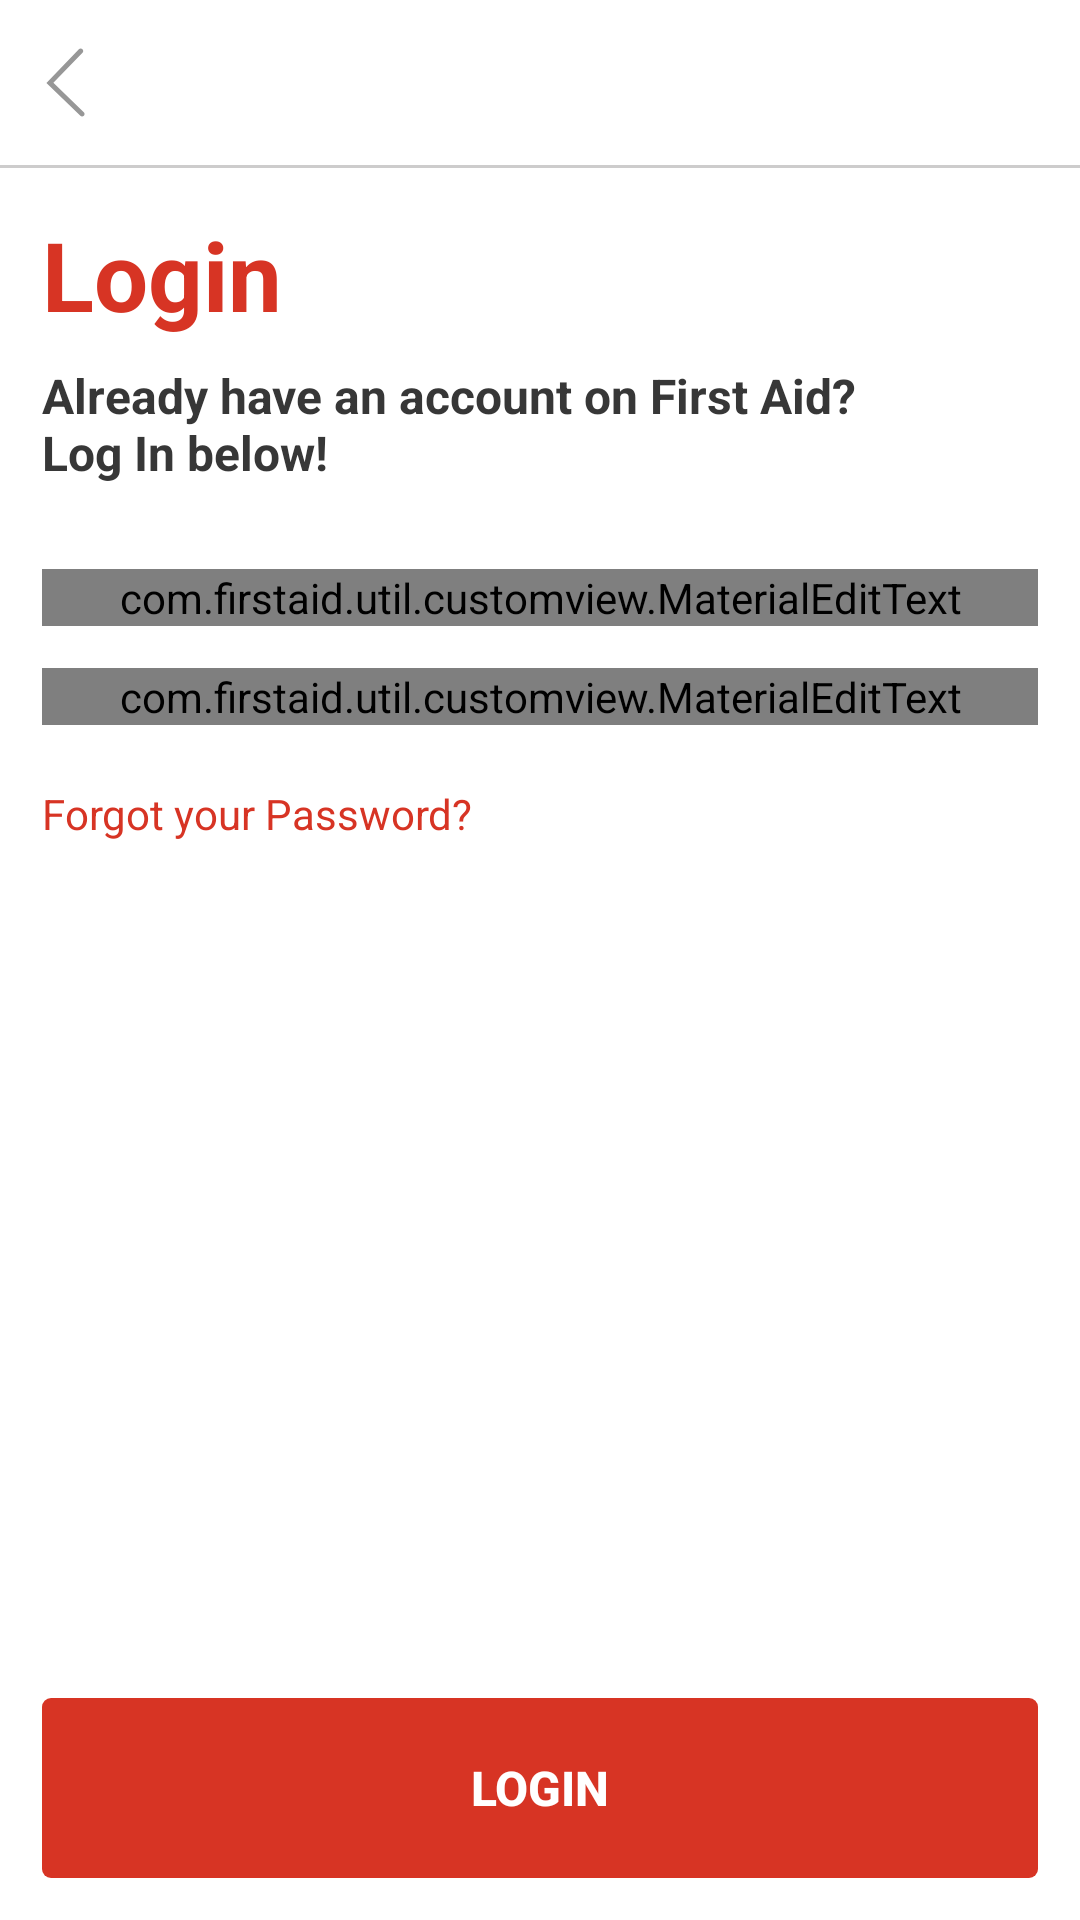

Point at icon controls on the screen. Image size 1080*1920, points as point (x, y).
back: point (66, 82)
